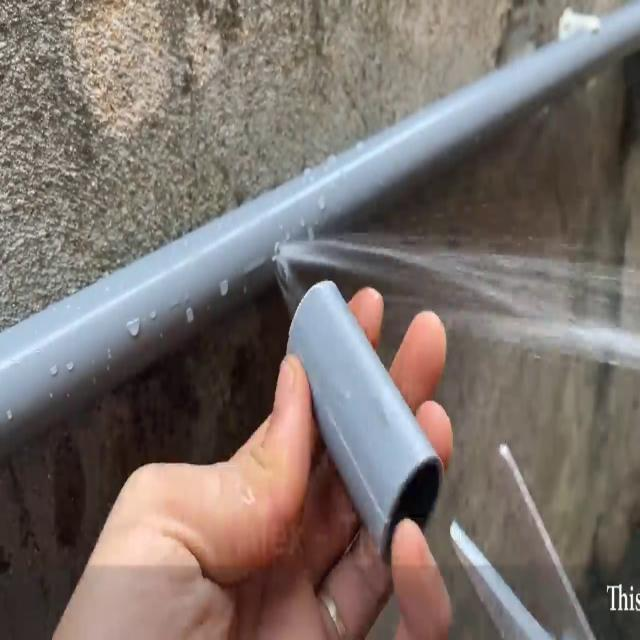leak: (273, 230, 640, 377)
